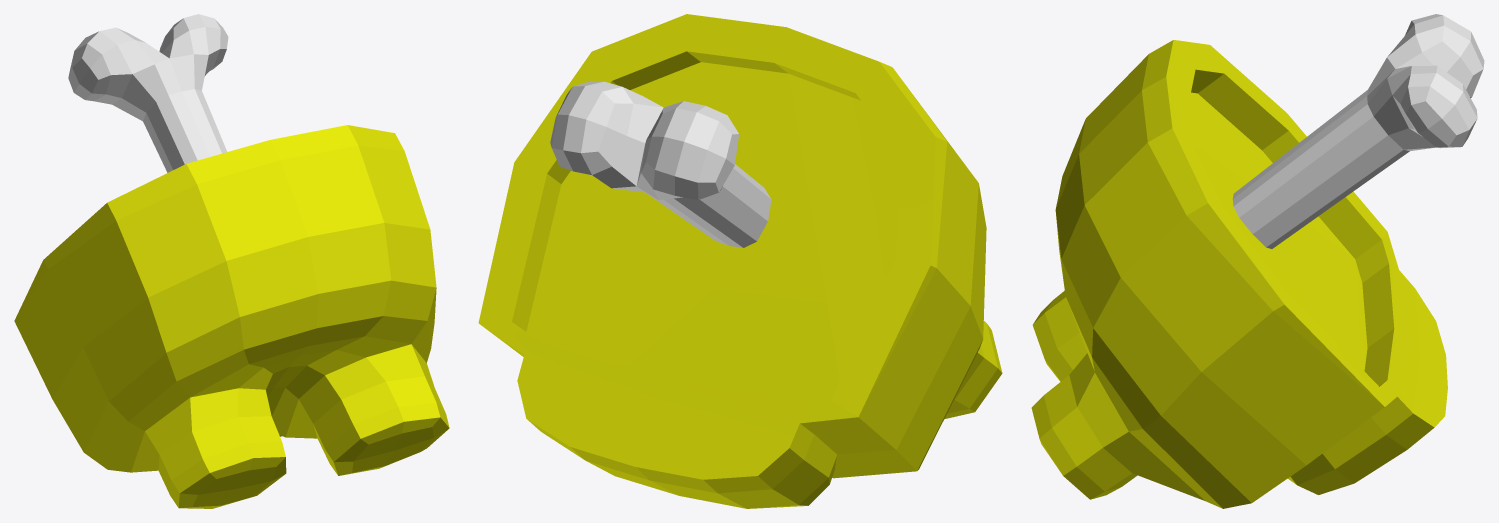
Rendered from amon.fbx.
The picture shows the model from 3 angles, left to right: view 1: azimuth 30°, elevation 25°; view 2: azimuth 150°, elevation 25°; view 3: azimuth 270°, elevation 25°; orthographic projection. The views are drawn at different scales.
Visible parts, largest first — view 1: Cube.000, Cube.001; view 2: Cube.000, Cube.001; view 3: Cube.000, Cube.001.
Part boxes in pixels (x1,y1,x2,y2): Cube.000: (14, 125, 449, 508); Cube.001: (68, 14, 228, 172); Cube.000: (478, 14, 1002, 508); Cube.001: (550, 81, 771, 247); Cube.000: (1031, 40, 1447, 508); Cube.001: (1232, 14, 1484, 248).
Size of the model in its own units: 300 by 305 by 299.
